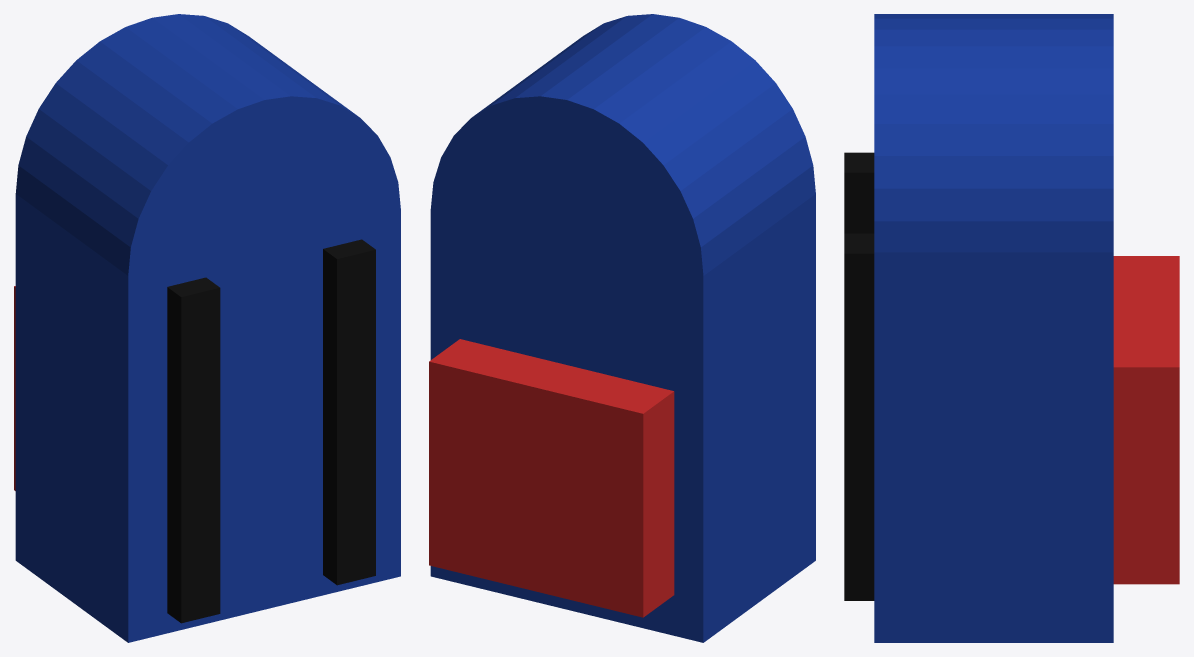
Rendered from szkolny_plecak.obj.
3 renders of one model, left to right at view 1: azimuth 30°, elevation 25°; view 2: azimuth 150°, elevation 25°; view 3: azimuth 270°, elevation 25°, orthographic. The views are drawn at different scales.
Visible parts, largest first — view 1: SzkolnyPlecak; view 2: SzkolnyPlecak; view 3: SzkolnyPlecak.
Part boxes in pixels (<box>): SzkolnyPlecak: <box>14,14,400,642</box>; SzkolnyPlecak: <box>429,14,815,642</box>; SzkolnyPlecak: <box>844,14,1179,642</box>.
Size of the model in its own units: 1.4 by 2.5 by 1.4.
